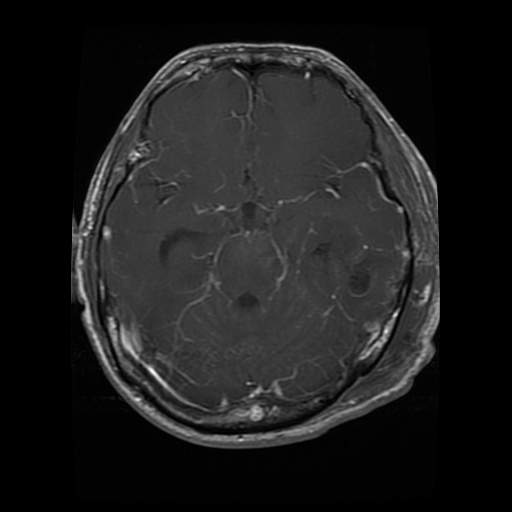glioma: (296, 218, 395, 322)
